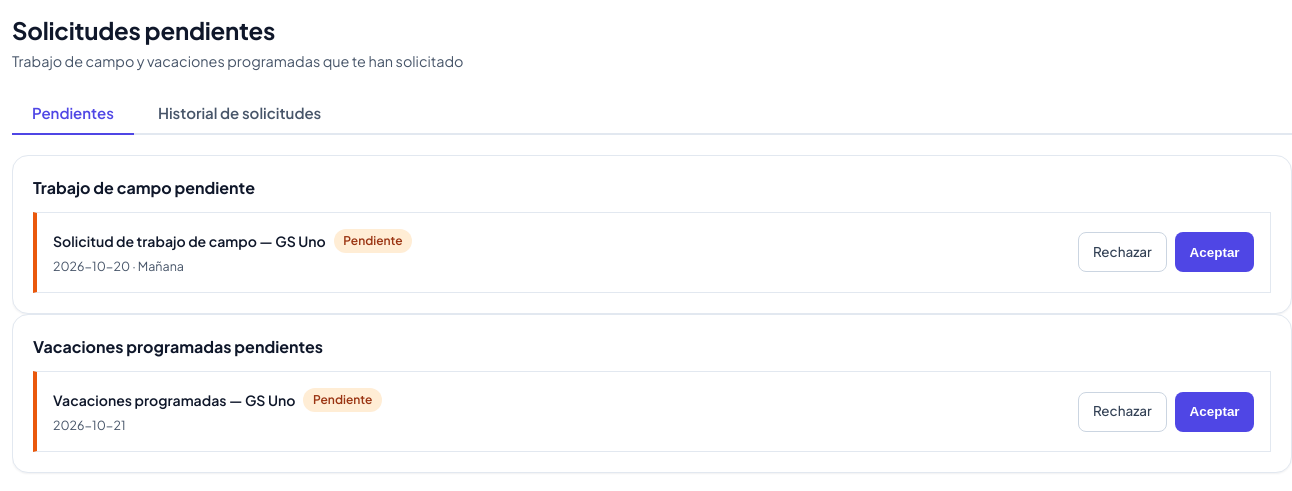
Test: SolicitudesPendientesPage › restores field-work-only history search, pagination, and status presentation without decision controls
Later steps or results of the test are not shown.
Check: the heading "Trabajo de campo pendiente" is shown, box x1=33 y1=176 x2=255 y2=200
Click the tab "Historial de solicitudes". click: [240, 114]
box: x1=138 y1=93 x2=341 y2=135
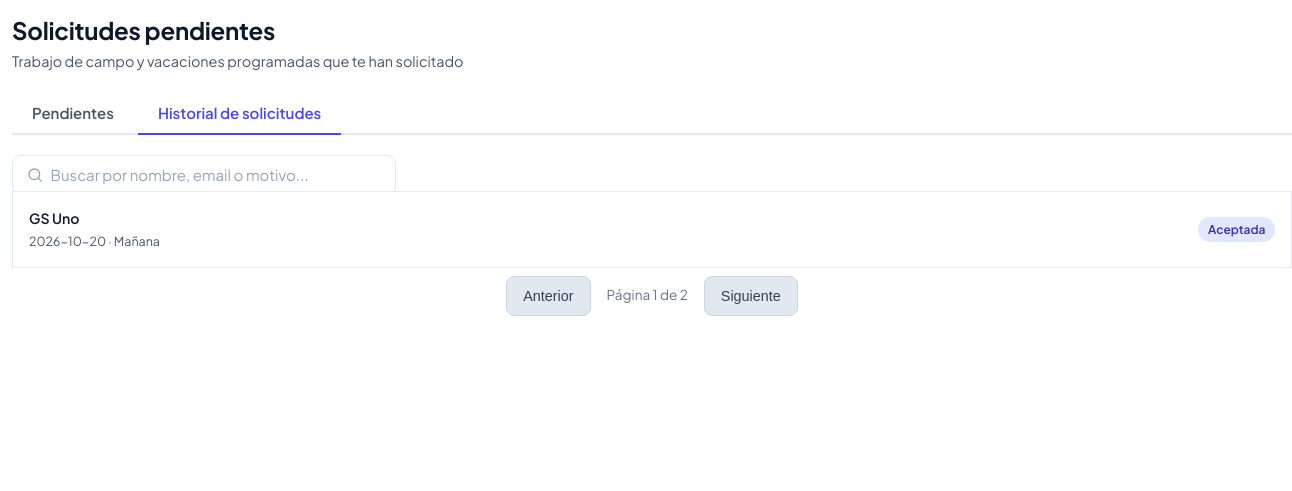
Check: the text "Aceptada" is shown, box x1=1198 y1=217 x2=1275 y2=242
Check: the heading "Vacaciones programadas pendientes" is gone
Check: the button "Aceptar" is gone
